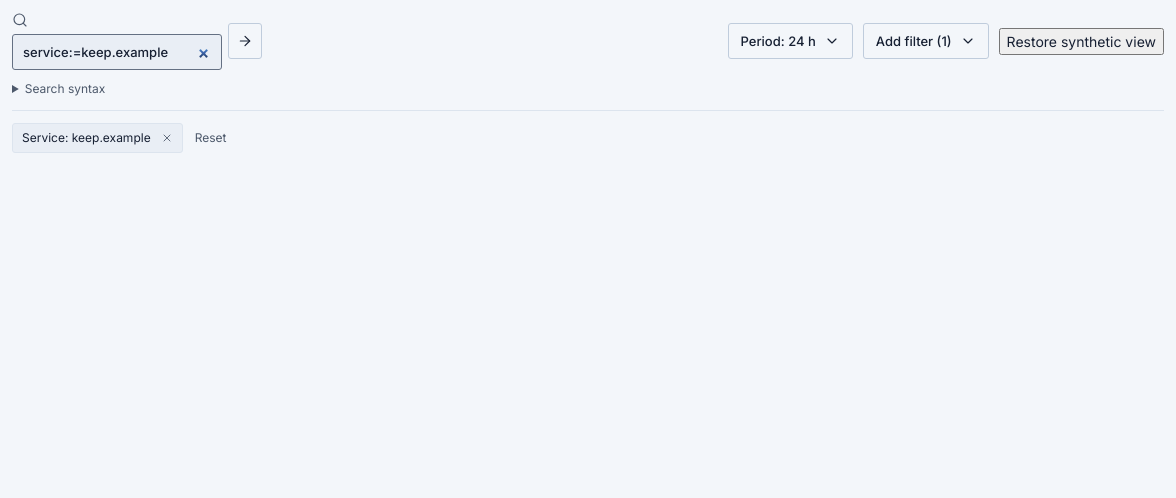
Test: keeps results unchanged for an incomplete draft, including when Add filter is used, and can reset explicitly
Click the search field.
click(117, 52)  # box x1=12 y1=34 x2=222 y2=70
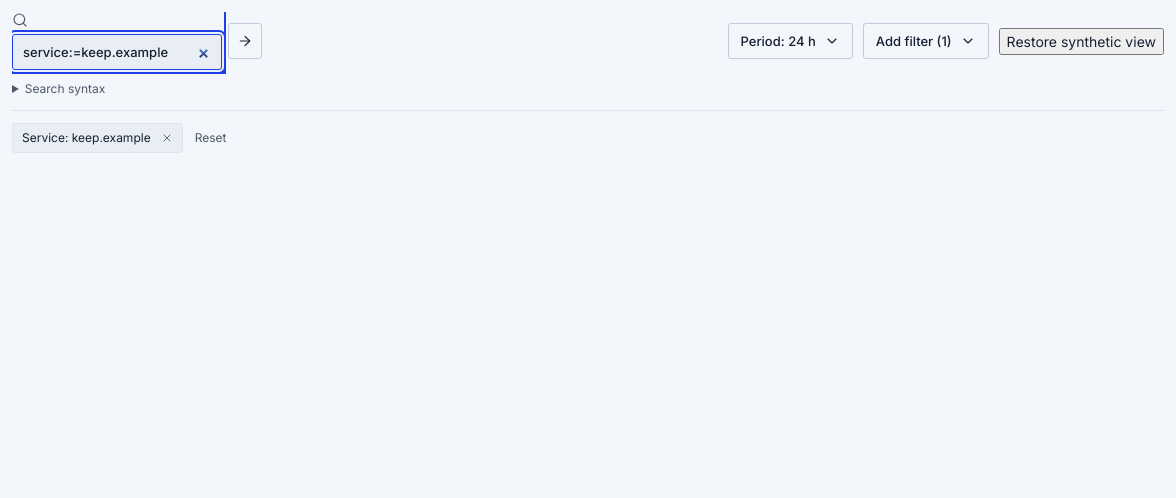
Type keys "{Control>}a{/Control}"
Type keys "model:\"unfinished"
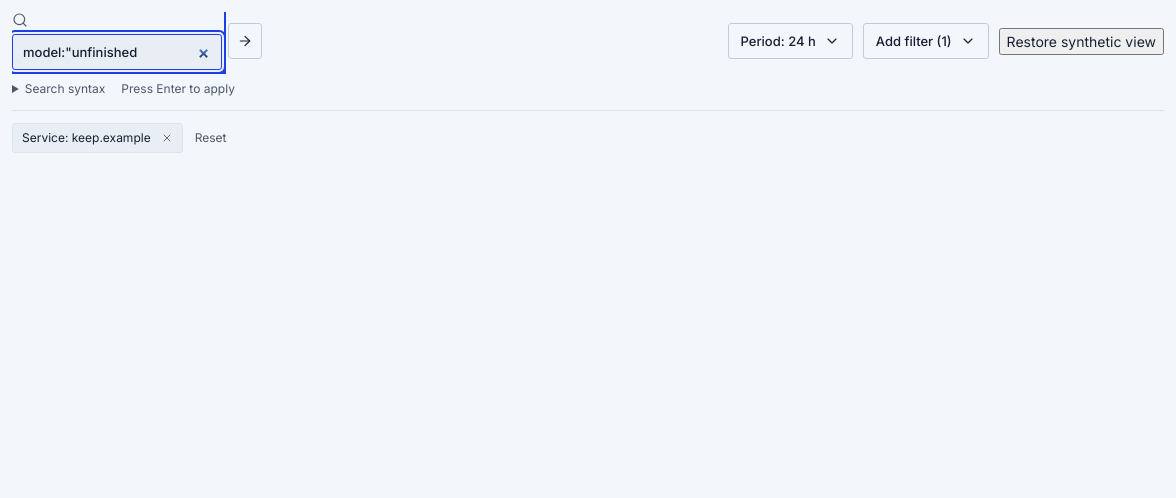
Press Enter
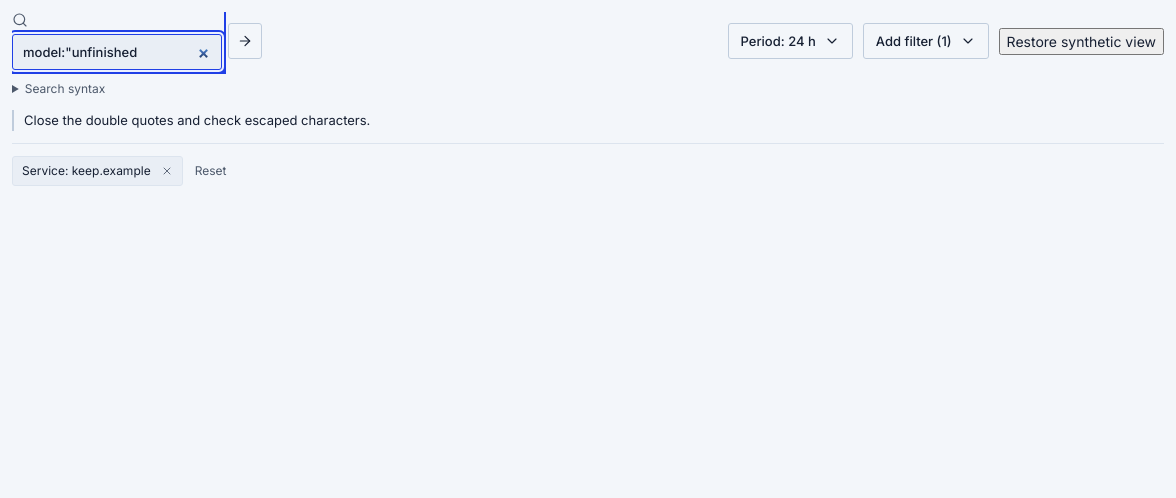
Expected: the button "Service: keep.example" is shown, x1=22 y1=162 x2=151 y2=180
Expected: the message shows "Close the double quotes", x1=24 y1=112 x2=370 y2=128
Click the button "Add filter (1)".
click(926, 41)  # box x1=863 y1=23 x2=989 y2=59
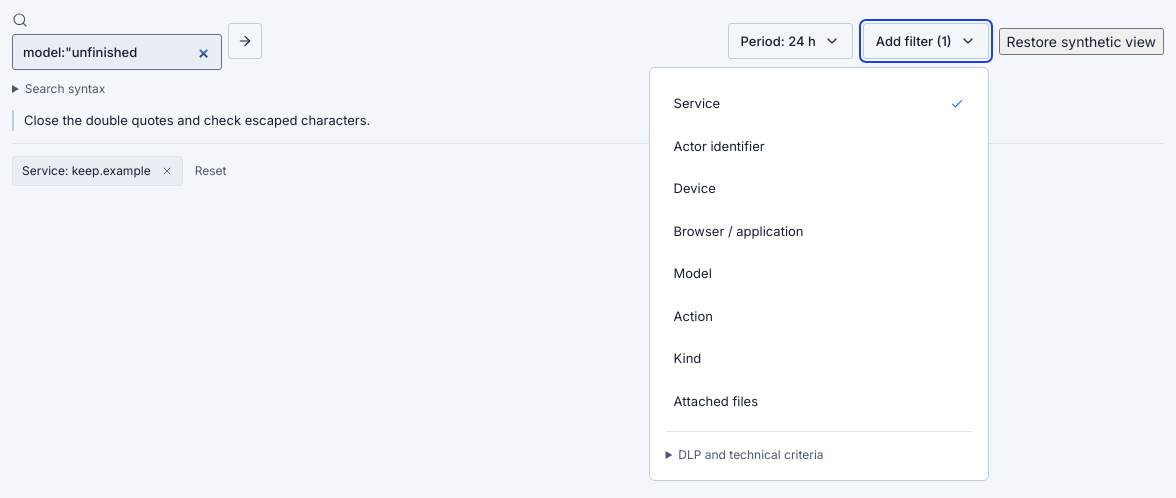
Click the button "Service".
click(697, 103)  # box x1=666 y1=84 x2=972 y2=124
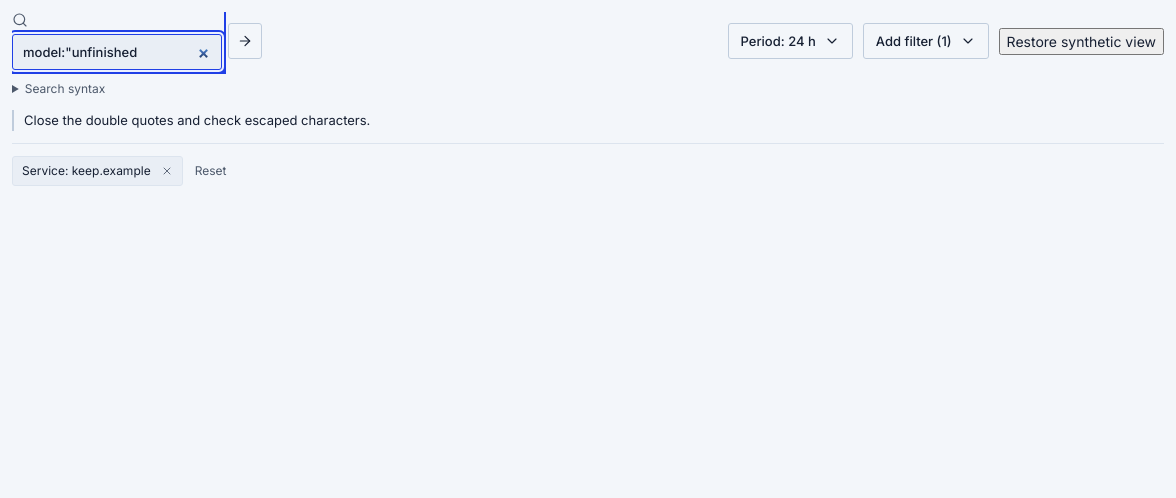
Click the button "Reset".
click(210, 171)  # box x1=191 y1=156 x2=230 y2=186
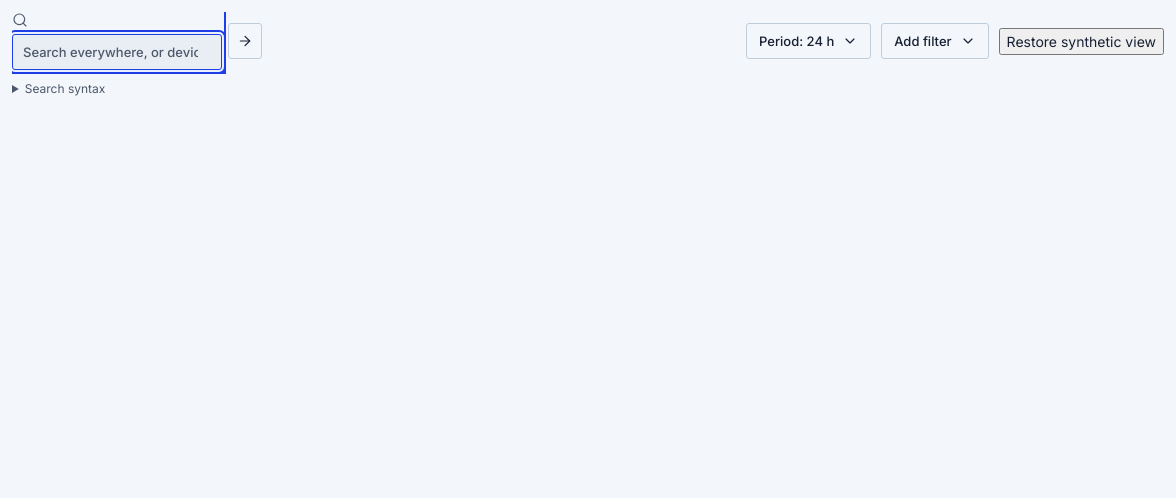
Expected: the search field is empty, x1=12 y1=34 x2=222 y2=70
